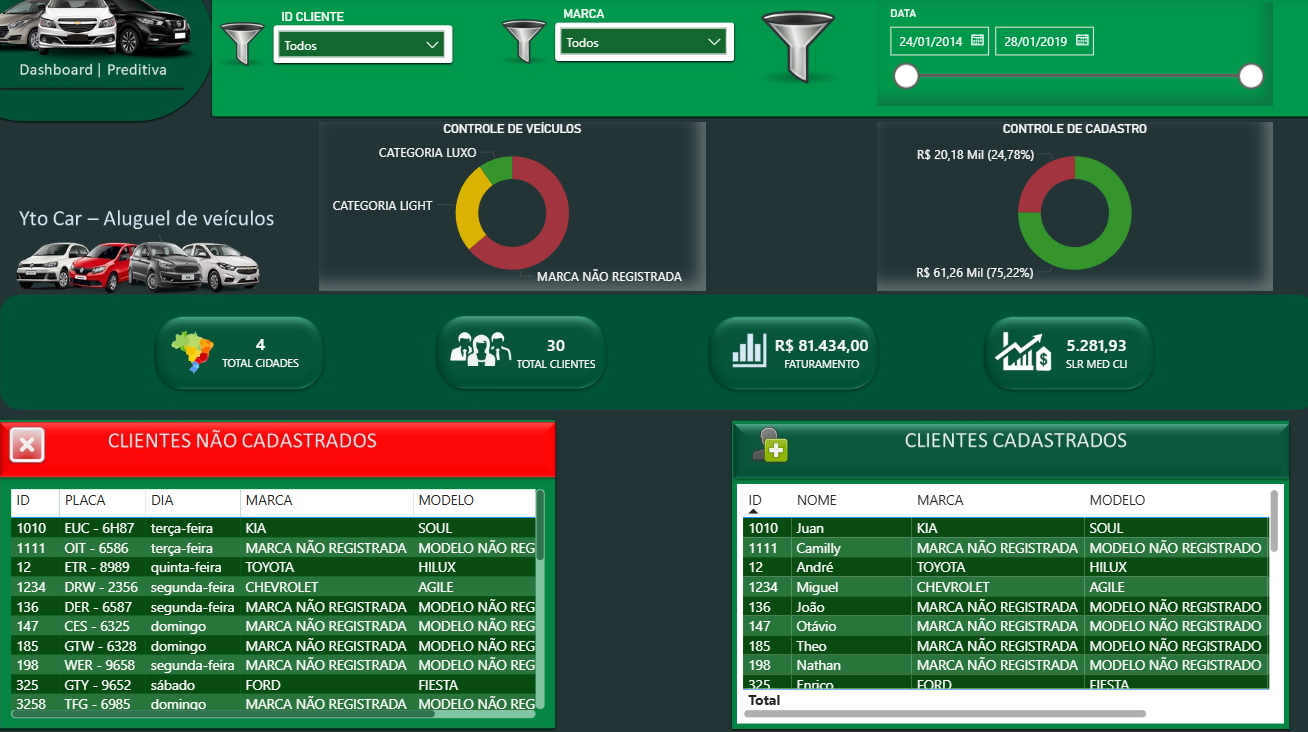

The dashboard page shown, as its layout file describes it:
{"tool":"powerbi","page":{"name":"CLIENTE","canvas":[1280,720],"ordinal":2},"visuals":[{"type":"cardVisual","fields":{"Data":["MEDIDAS.TOTAL CIDADES"]},"box":[183.6,304.5,143.6,78.2],"z":0},{"type":"cardVisual","fields":{"Data":["MEDIDAS.TOTAL DE CLIENTES"]},"box":[472,305,142,78],"z":1000},{"type":"cardVisual","fields":{"Data":["Avg(tb_km.Total Venda)"]},"box":[724,305,155,78],"z":2000},{"type":"cardVisual","fields":{"Data":["MEDIDAS.ticket médio salario"]},"box":[1006,305,126,78],"z":3000},{"type":"donutChart","title":"CONTROLE DE CADASTRO","fields":{"Category":["tb_km.SITUAÇÃO CADASTRAL"],"Y":["MEDIDAS.FAT"]},"box":[855,121,385,164],"z":4000},{"type":"donutChart","title":"CONTROLE DE VEÍCULOS","fields":{"Y":["MEDIDAS.FAT"],"Category":["tb_km.CATEGORIAS"]},"box":[312,121,376,164],"z":5000},{"type":"slicer","fields":{"Values":["tb_cli.ID"]},"box":[263,7,182,65],"z":6000},{"type":"slicer","fields":{"Values":["tb_km.MARCA"]},"box":[537,4,182,65],"z":7000},{"type":"slicer","fields":{"Values":["tb_km.DATA"]},"box":[855,4,385,101],"z":8000},{"type":"tableEx","fields":{"Values":["INNER JOIN.tb_cli.ID","INNER JOIN.tb_cli.NOME","INNER JOIN.MARCA","INNER JOIN.MODELO","INNER JOIN.SITUAÇÃO CADASTRAL","MEDIDAS.FAT"]},"box":[718.8,472.7,532,233.4],"z":9000},{"type":"tableEx","fields":{"Values":["LEFT JOIN.ID_CLIENTE","LEFT JOIN.PLACA","tb_km.Nome do Dia","LEFT JOIN.MARCA","LEFT JOIN.MODELO","LEFT JOIN.SITUAÇÃO CADASTRAL"]},"box":[6.8,472.7,530.1,233.4],"z":10000}]}

Visuals, with their boxes in screenshot pixels (x1, y1, x2, y2), scaled from the page's 1280x720 canvas onto the 1308x732 screenshot:
cardVisual - MEDIDAS.TOTAL CIDADES: 188 310 334 389
cardVisual - MEDIDAS.TOTAL DE CLIENTES: 482 310 627 389
cardVisual - Avg(tb_km.Total Venda): 740 310 898 389
cardVisual - MEDIDAS.ticket médio salario: 1028 310 1157 389
"CONTROLE DE CADASTRO" donutChart: 874 123 1267 290
"CONTROLE DE VEÍCULOS" donutChart: 319 123 703 290
slicer - tb_cli.ID: 269 7 455 73
slicer - tb_km.MARCA: 549 4 735 70
slicer - tb_km.DATA: 874 4 1267 107
tableEx - INNER JOIN.tb_cli.ID x INNER JOIN.tb_cli.NOME: 735 481 1278 718
tableEx - LEFT JOIN.ID_CLIENTE x LEFT JOIN.PLACA: 7 481 549 718
